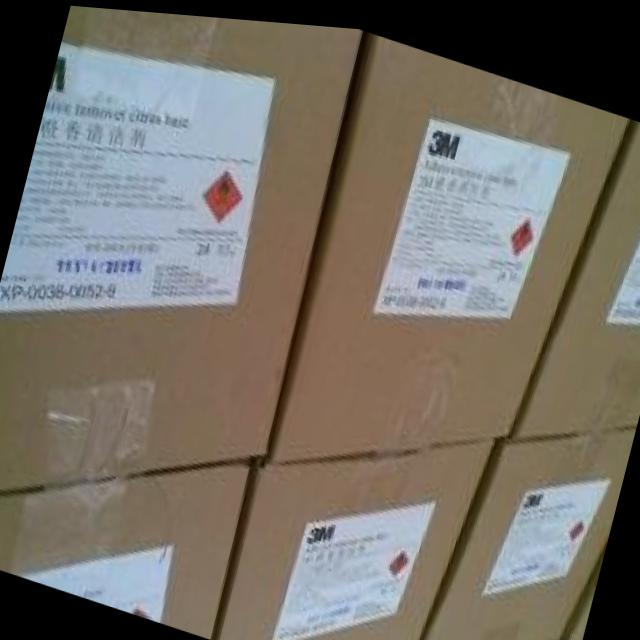box: (0, 4, 362, 493), (268, 27, 629, 459), (219, 431, 495, 640), (423, 416, 636, 640), (0, 455, 251, 636), (508, 112, 640, 433)
